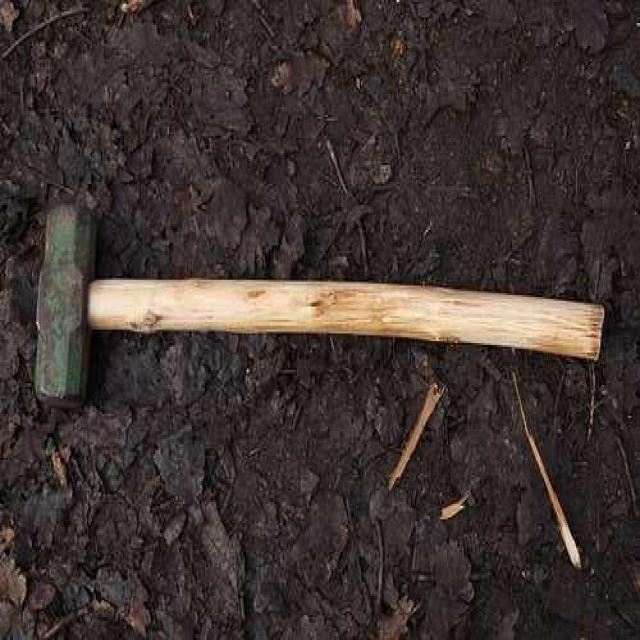hammer: (36, 204, 604, 415)
